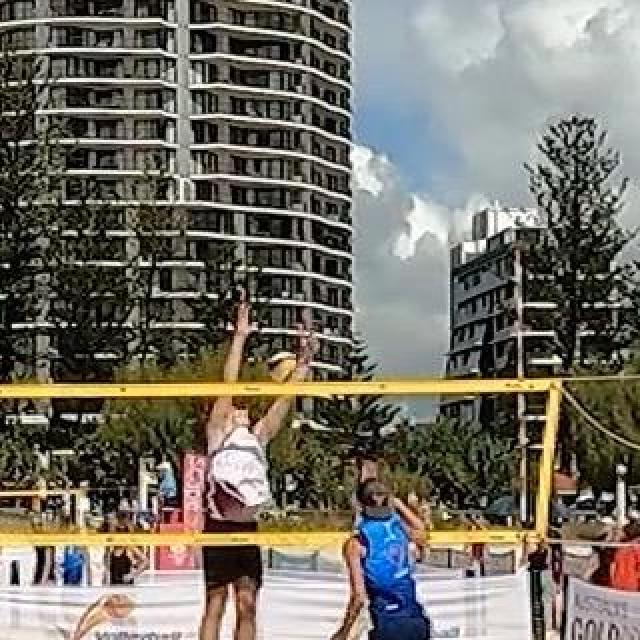volleyball: (267, 351, 301, 383)
